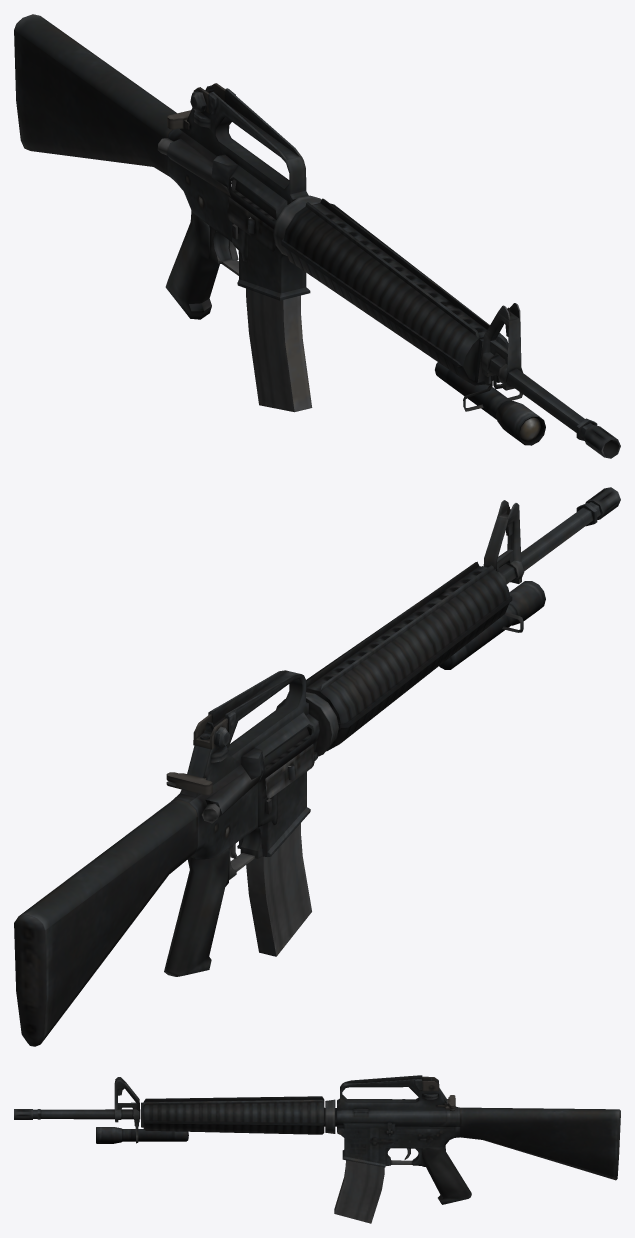
Rendered from l4d1-w-rifle_m16a2.glb.
3 views of the same model, one above another, from view 1: azimuth 30°, elevation 25°; view 2: azimuth 150°, elevation 25°; view 3: azimuth 270°, elevation 25° (orthographic). The views are drawn at different scales.
Size of the model in its own units: 2.63 by 10.39 by 39.59.
1 material, 1 textured.
